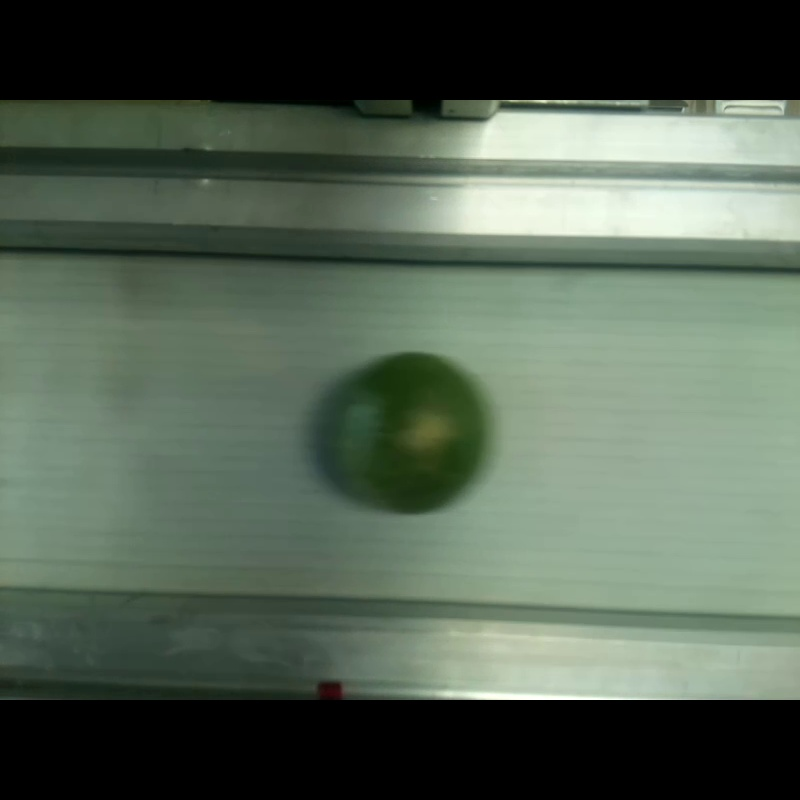lime: (325, 351, 483, 510)
